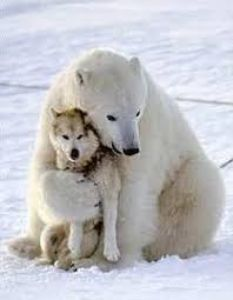bear: (85, 59, 221, 250)
wolf: (46, 112, 120, 268)
